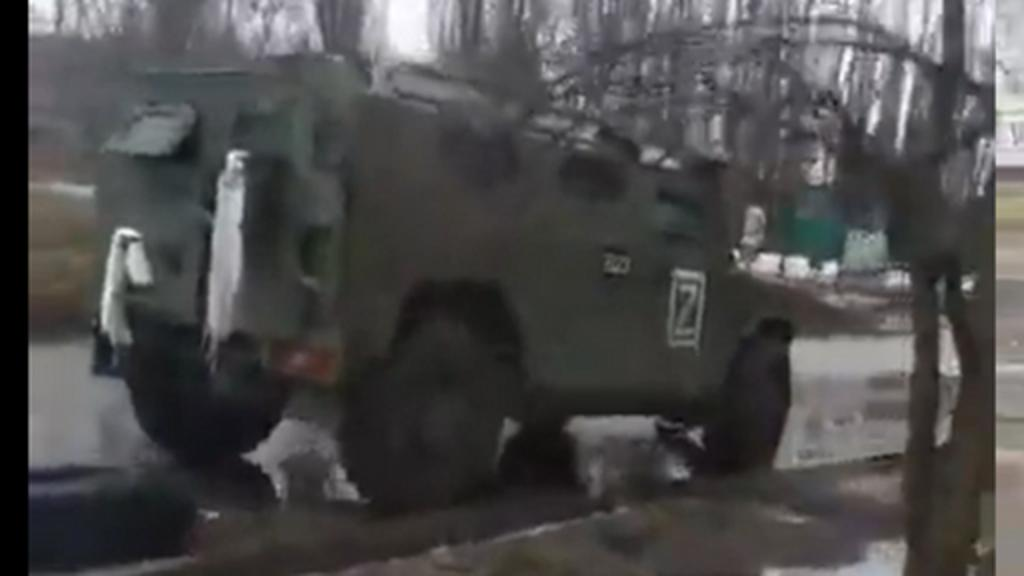CAR: (90, 42, 798, 508)
